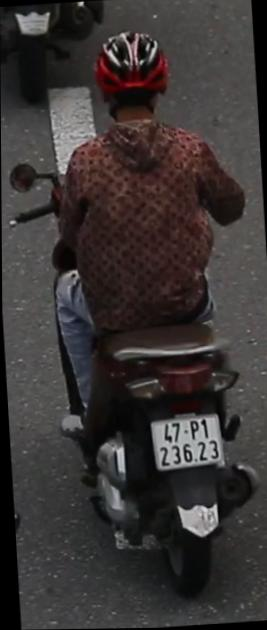LP: (143, 406, 228, 492)
helmet: (86, 23, 177, 128)
